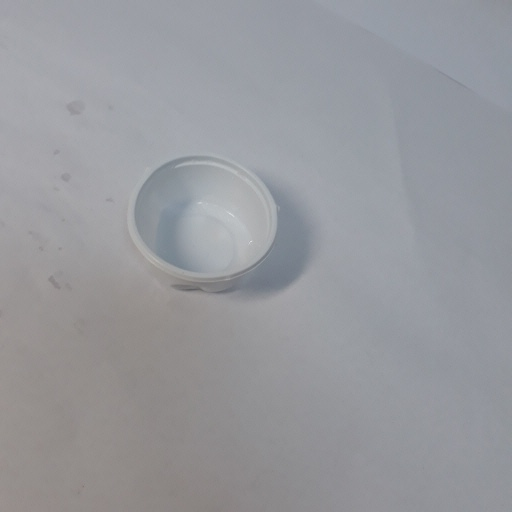Plastic_5: (122, 150, 284, 304)
